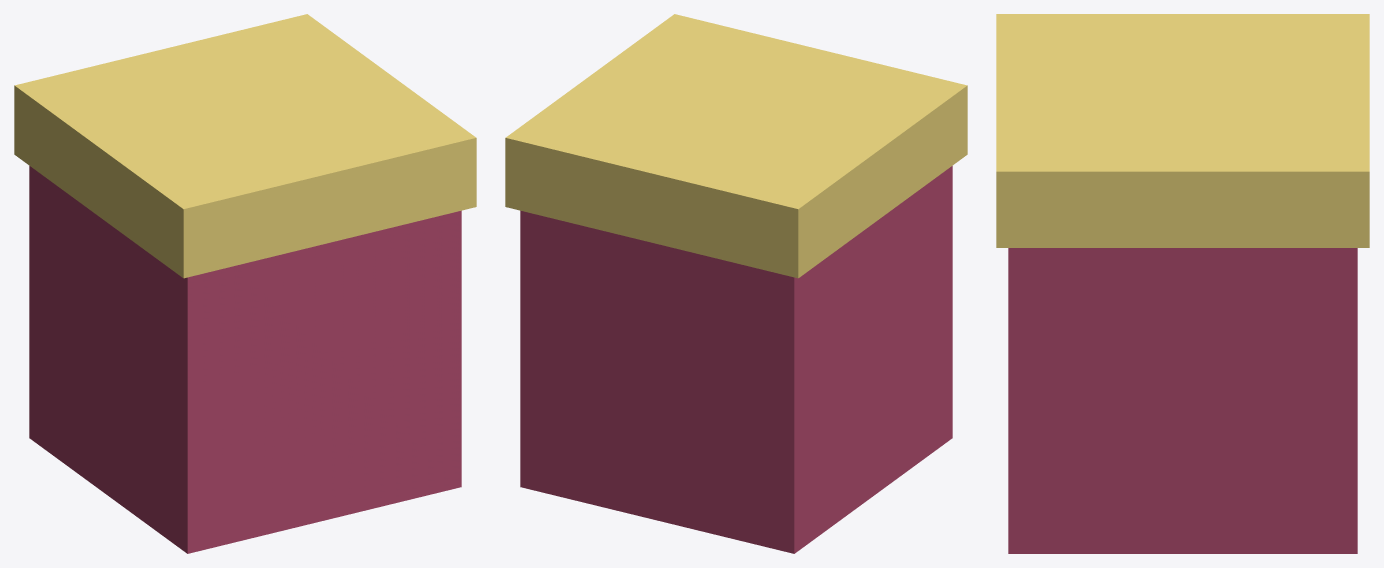
File: bardo_manga_sup.glb
3 renders of one model, left to right at view 1: azimuth 30°, elevation 25°; view 2: azimuth 150°, elevation 25°; view 3: azimuth 270°, elevation 25°, orthographic. The views are drawn at different scales.
Parts seen in each view (by area): view 1: bardo_manga_sup; view 2: bardo_manga_sup; view 3: bardo_manga_sup.
Boxes of the visible parts, bbox=[...] form: bardo_manga_sup: bbox=[14, 14, 476, 553]; bardo_manga_sup: bbox=[505, 14, 967, 553]; bardo_manga_sup: bbox=[996, 14, 1369, 553].
Bounding box in the file's own units: 0.31 × 0.355 × 0.31.
